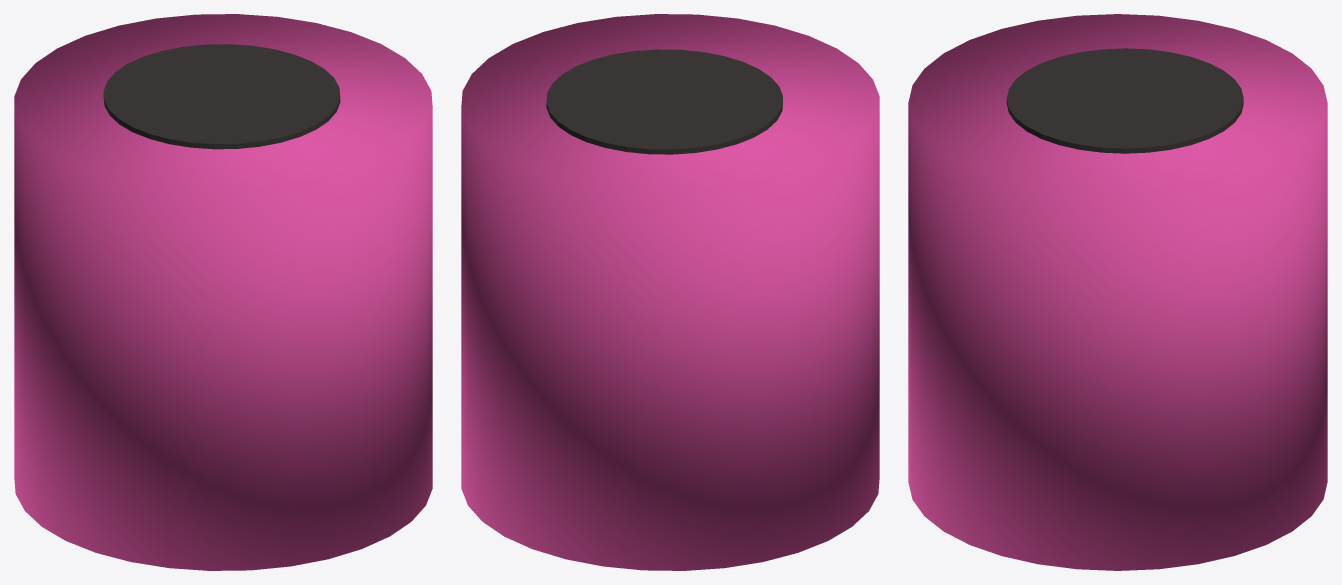
Rendered from base_bonbon_anglais_rose.dae.
The picture shows the model from 3 angles, left to right: view 1: azimuth 30°, elevation 25°; view 2: azimuth 150°, elevation 25°; view 3: azimuth 270°, elevation 25°; orthographic projection.
Visible parts, largest first — view 1: Cylinder; view 2: Cylinder; view 3: Cylinder.
Part boxes in pixels (left/top/right/bottom): Cylinder: left=14, top=14, right=432, bottom=570; Cylinder: left=461, top=14, right=879, bottom=570; Cylinder: left=908, top=14, right=1327, bottom=570.
Size of the model in its own units: 2.23 by 2.23 by 2.31.
